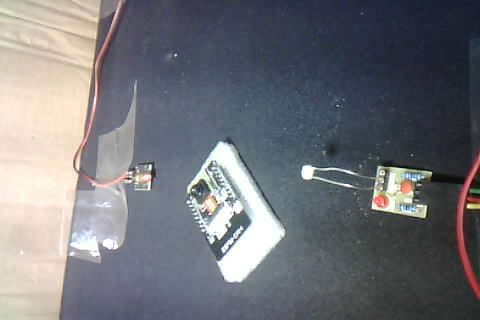esp32: (176, 140, 276, 271)
